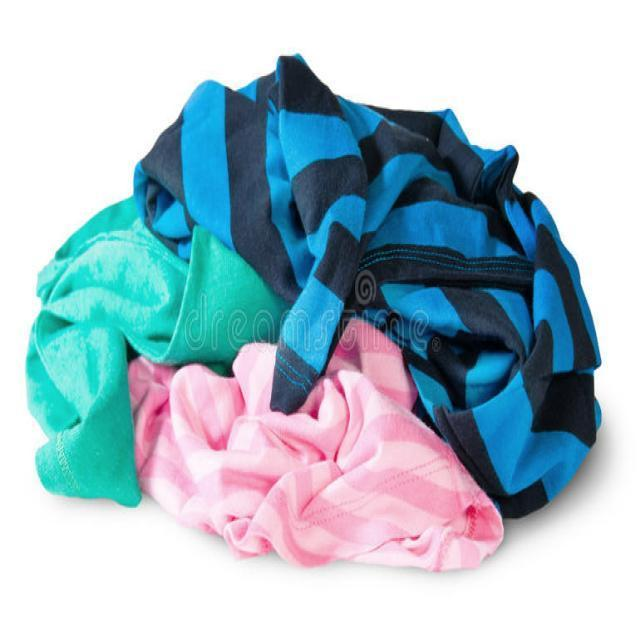clothes: (36, 139, 574, 571)
